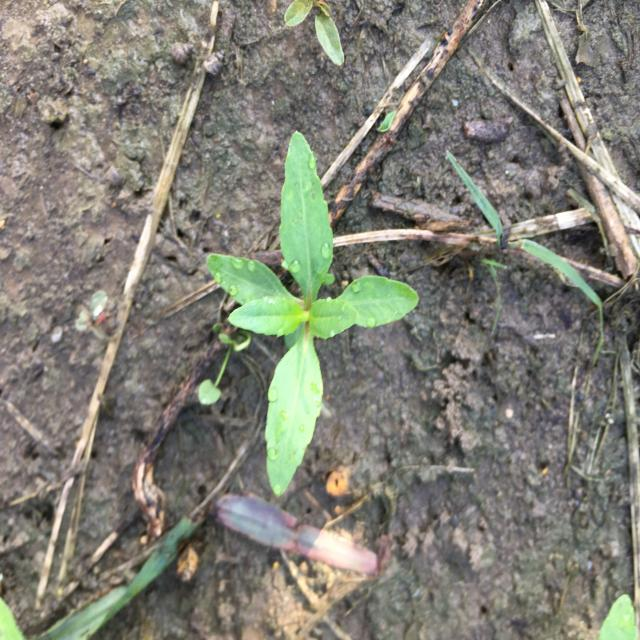Eclipta: (203, 126, 421, 502)
